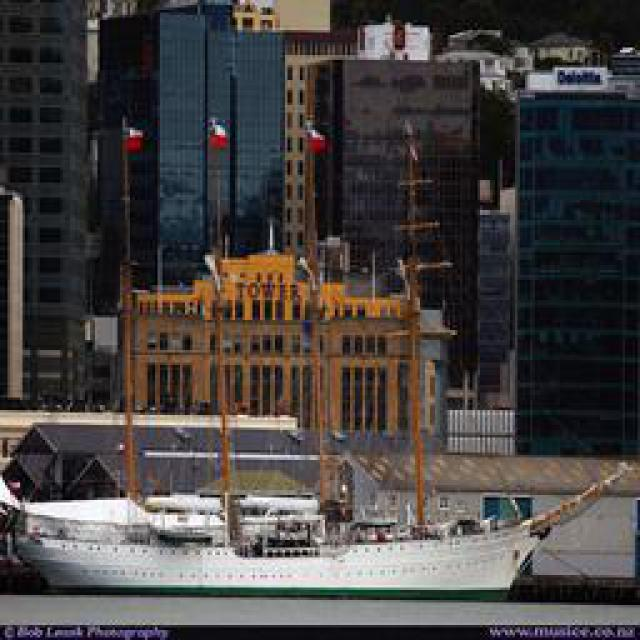Ship: (1, 479, 619, 604)
